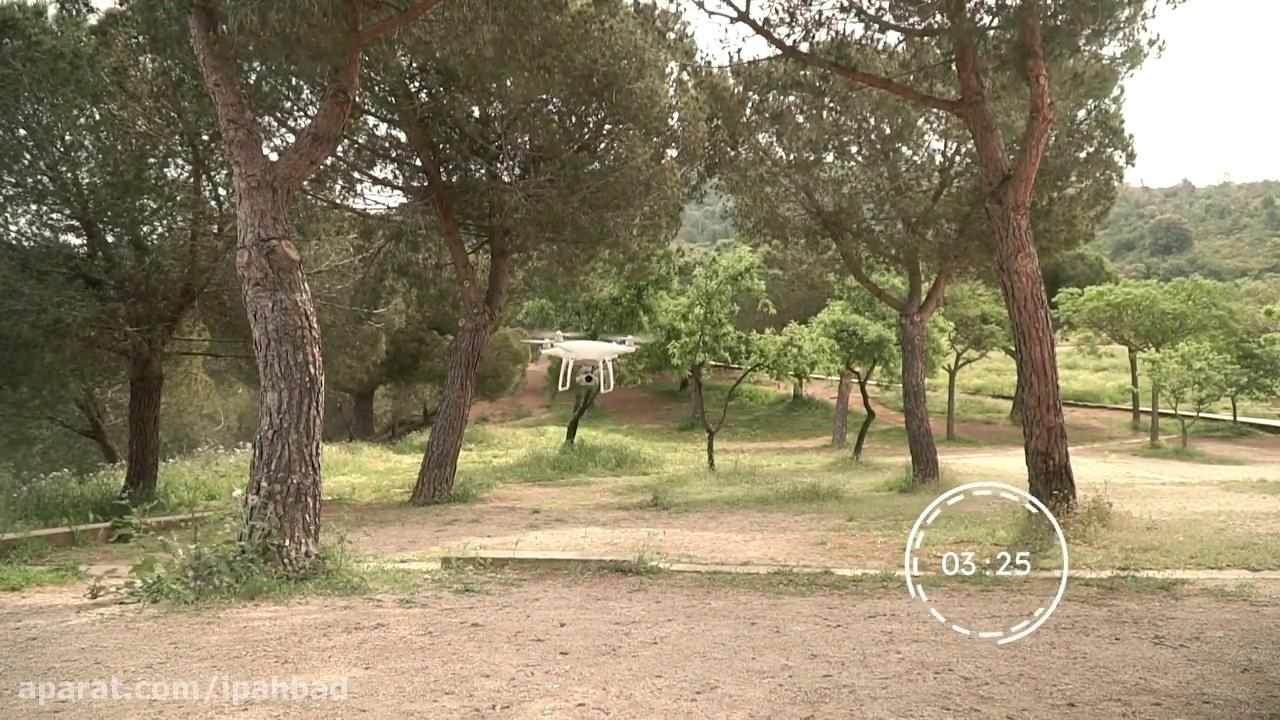drone: (516, 325, 656, 394)
